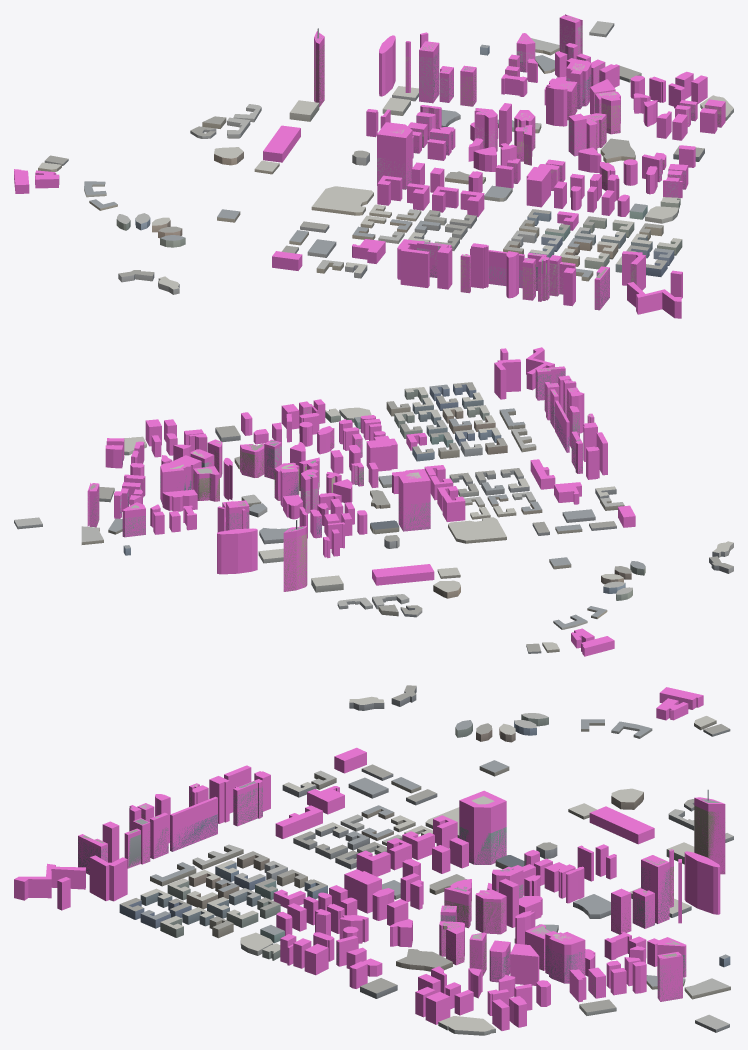
Rendered from bld_7_3.fbx.
The picture shows the model from 3 angles, top to bottom: view 1: azimuth 30°, elevation 25°; view 2: azimuth 150°, elevation 25°; view 3: azimuth 270°, elevation 25°; orthographic projection. The views are drawn at different scales.
Visible parts, largest first — view 1: bld_7_3_COL, bld_7_3_LOD0; view 2: bld_7_3_COL, bld_7_3_LOD0; view 3: bld_7_3_COL, bld_7_3_LOD0.
Part boxes in pixels (x1,y1,x2,y2): bld_7_3_COL: [14, 14, 725, 318]; bld_7_3_LOD0: [38, 17, 733, 309]; bld_7_3_COL: [87, 347, 635, 656]; bld_7_3_LOD0: [14, 367, 733, 653]; bld_7_3_COL: [14, 687, 725, 1030]; bld_7_3_LOD0: [78, 685, 733, 1035].
Size of what is drawn, in the model's own units: 1997 by 219 by 1762.
